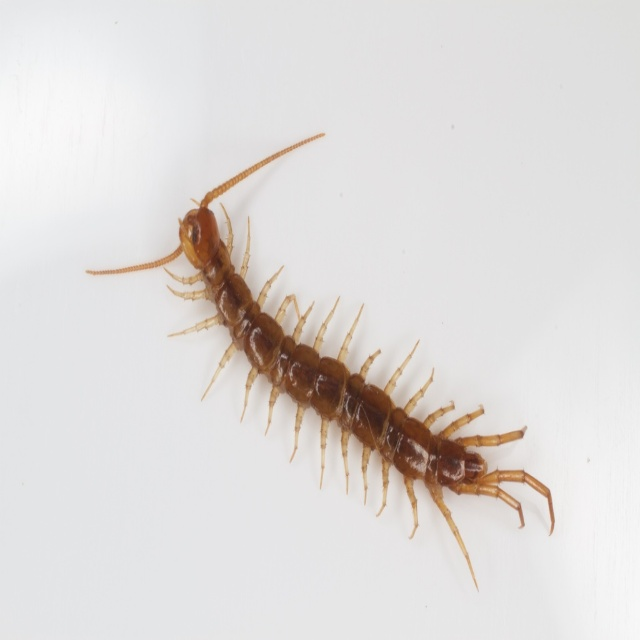Centipede: (89, 130, 556, 593)
